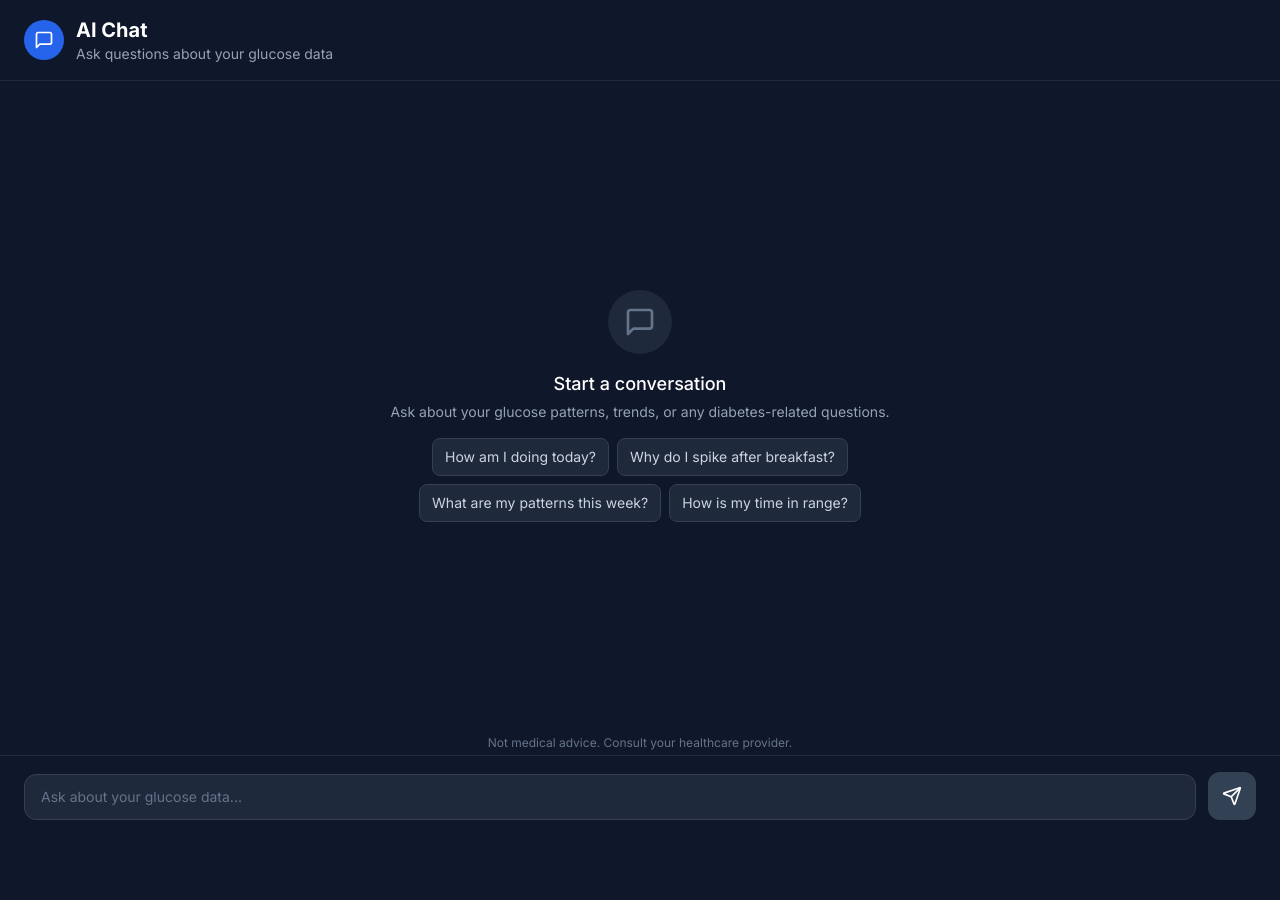
Test: AI Chat Page › ready state - empty chat › enables send button when input has text
The image size is (1280, 900).
Type "Hello" into the text box with placeholder "Ask about your glucose data...". click: coordinates (610, 797)
box: [24,774,1196,820]
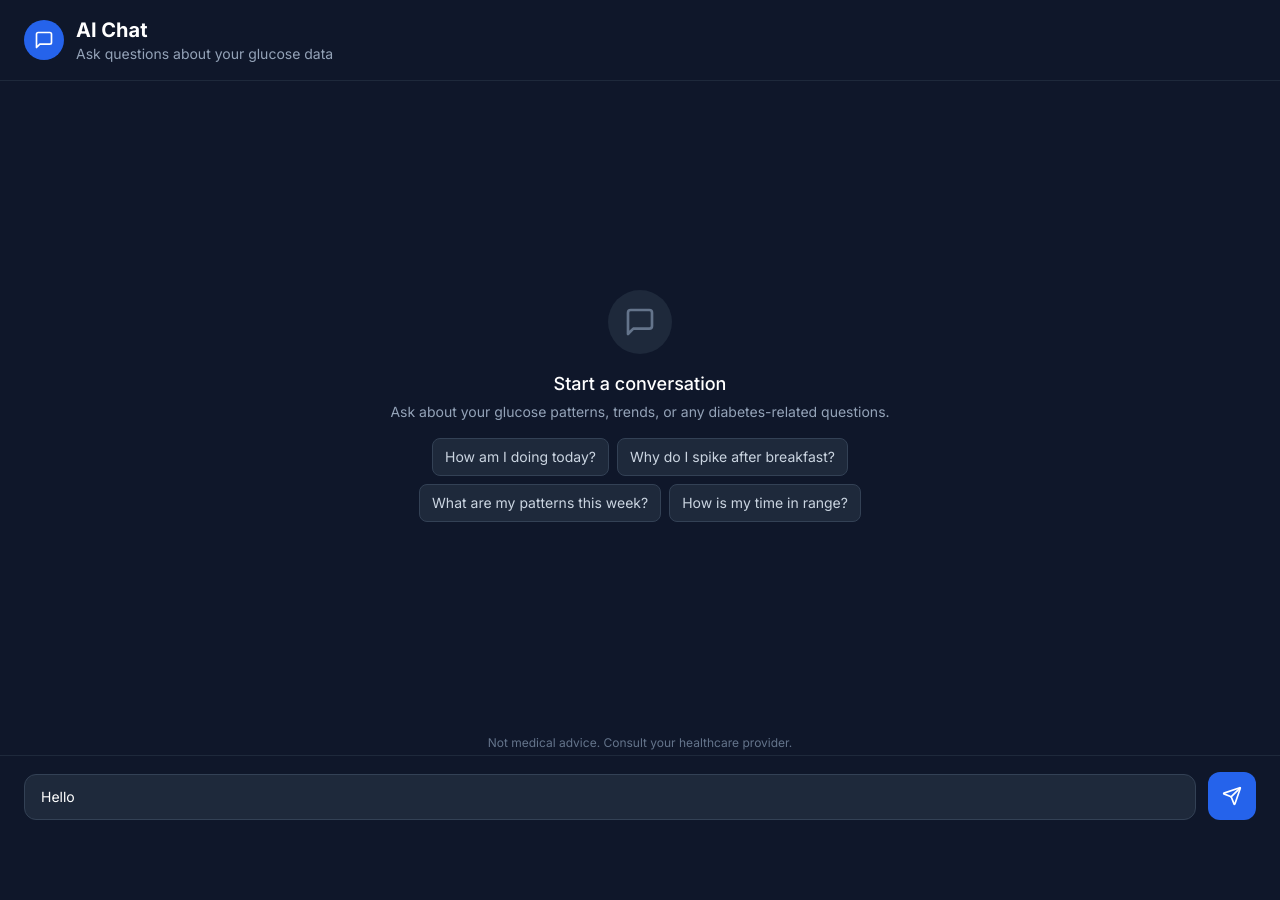
Check: the button named "send message" is enabled, box [1208,772,1256,820]
